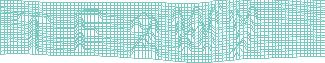2: (127, 11, 163, 60)
F: (73, 6, 103, 54)
T: (17, 12, 52, 55)
W: (170, 5, 220, 55)
y: (225, 6, 258, 59)
